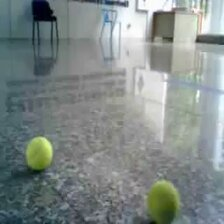tennis: (146, 180, 178, 224), (25, 136, 53, 169)
